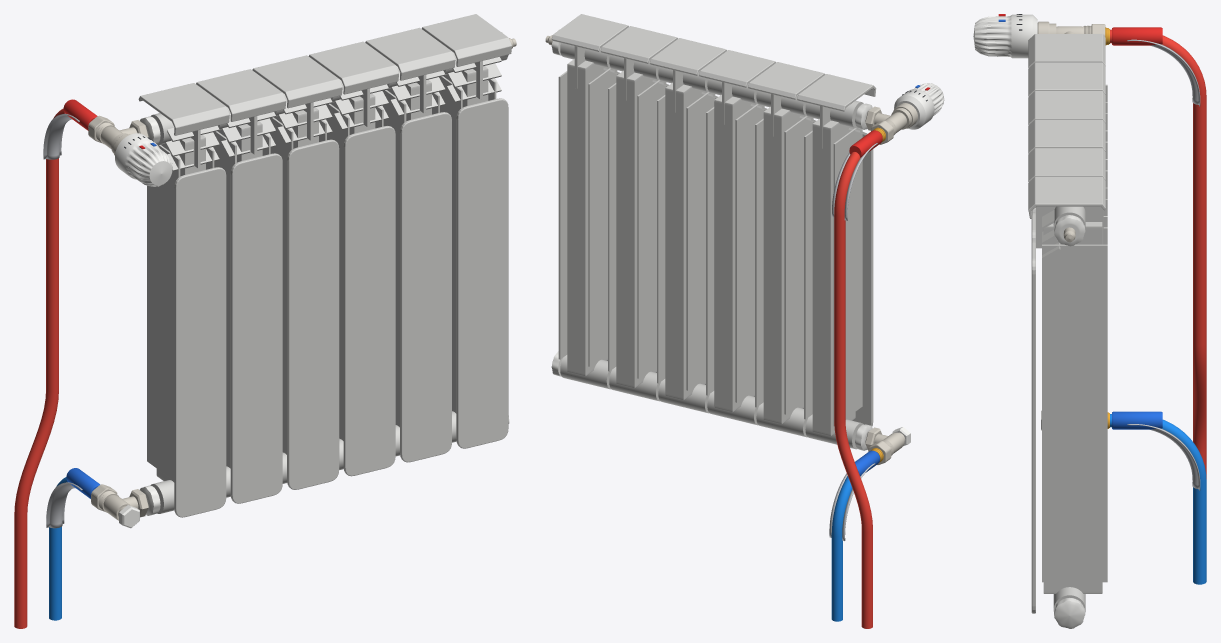
File: side_node_sect_angled_std_x_white.glb
The picture shows the model from 3 angles, left to right: view 1: azimuth 30°, elevation 25°; view 2: azimuth 150°, elevation 25°; view 3: azimuth 270°, elevation 25°; orthographic projection. The views are drawn at different scales.
Parts seen in each view (by area): view 1: панель секции.005, панель секции.001, панель секции, панель секции.003, панель секции.002, панель секции.004, ребро, труба 16, козырёк, козырёк.001, козырёк.004, козырёк.005 (+14 smaller); view 2: тело секции.005, тело секции.004, тело секции.003, тело секции.002, тело секции.001, тело секции, ребро.002, ребро.004, ребро.006, ребро.008, ребро.010, труба 16 (+28 smaller); view 3: ребро.011, труба 16, козырёк.005, термоголовка, козырёк.003, козырёк.001, козырёк.004, козырёк.002, козырёк, труба 16.001, панель секции.005, тело секции.005 (+9 smaller).
Boxes of the visible parts, x1,y1,x2,y2 form: панель секции.005: (456,98,508,448); панель секции.001: (230,153,282,503); панель секции: (174,167,226,517); панель секции.003: (343,126,395,476); панель секции.002: (287,139,339,489); панель секции.004: (400,112,451,462); ребро: (147,144,180,480); труба 16: (14,108,64,628); козырёк: (138,83,229,135); козырёк.001: (196,69,286,121); козырёк.004: (365,27,455,80); козырёк.005: (421,14,511,66); тело секции.005: (567,59,608,376); тело секции.004: (616,70,658,388); тело секции.003: (665,82,707,400); тело секции.002: (714,95,756,412); тело секции.001: (763,107,805,424); тело секции: (812,119,855,435); ребро.002: (784,116,813,414); ребро.004: (735,104,764,402); ребро.006: (686,92,715,390); ребро.008: (637,80,666,378); ребро.010: (588,68,617,366); труба 16: (834,152,872,628); ребро.011: (1042,244,1107,582); труба 16: (1110,29,1206,478); козырёк.005: (1028,176,1105,218); термоголовка: (973,14,1037,58); козырёк.003: (1028,119,1105,153); козырёк.001: (1028,62,1105,96); козырёк.004: (1028,148,1105,181); козырёк.002: (1028,91,1105,124); козырёк: (1028,34,1105,67); труба 16.001: (1110,414,1206,584); панель секции.005: (1031,241,1035,613); тело секции.005: (1043,222,1102,593).
Size of the model in its own units: 0.62 by 0.741 by 0.276.
